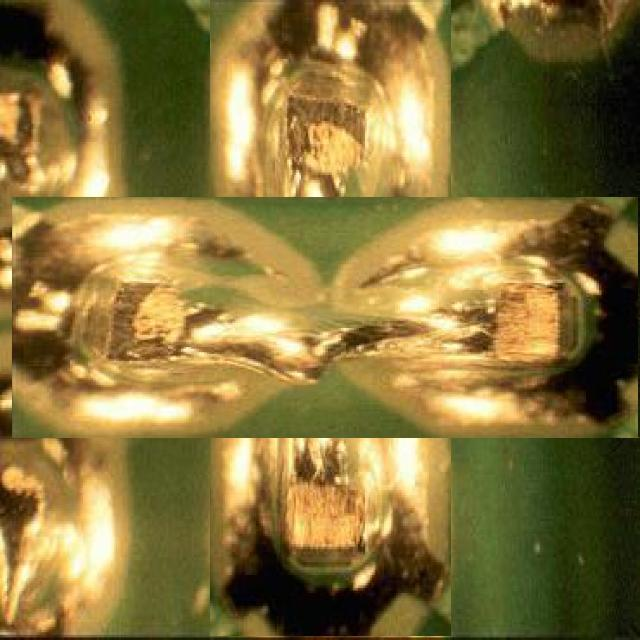Short_circuit: (12, 197, 639, 437)
